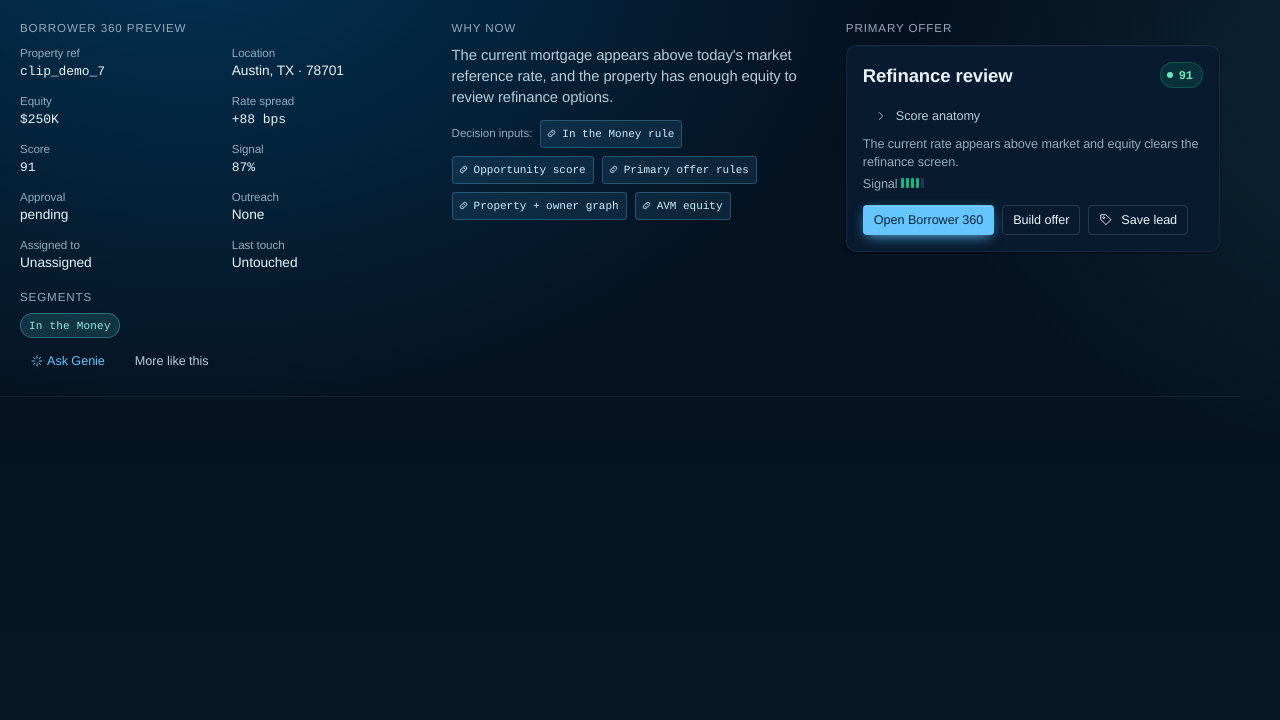
Test case: RowPreview More like this › opens the panel on a click with one count read, links only, and closes on a second click
Click the button "More like this": (172, 360) [124,346,220,376]
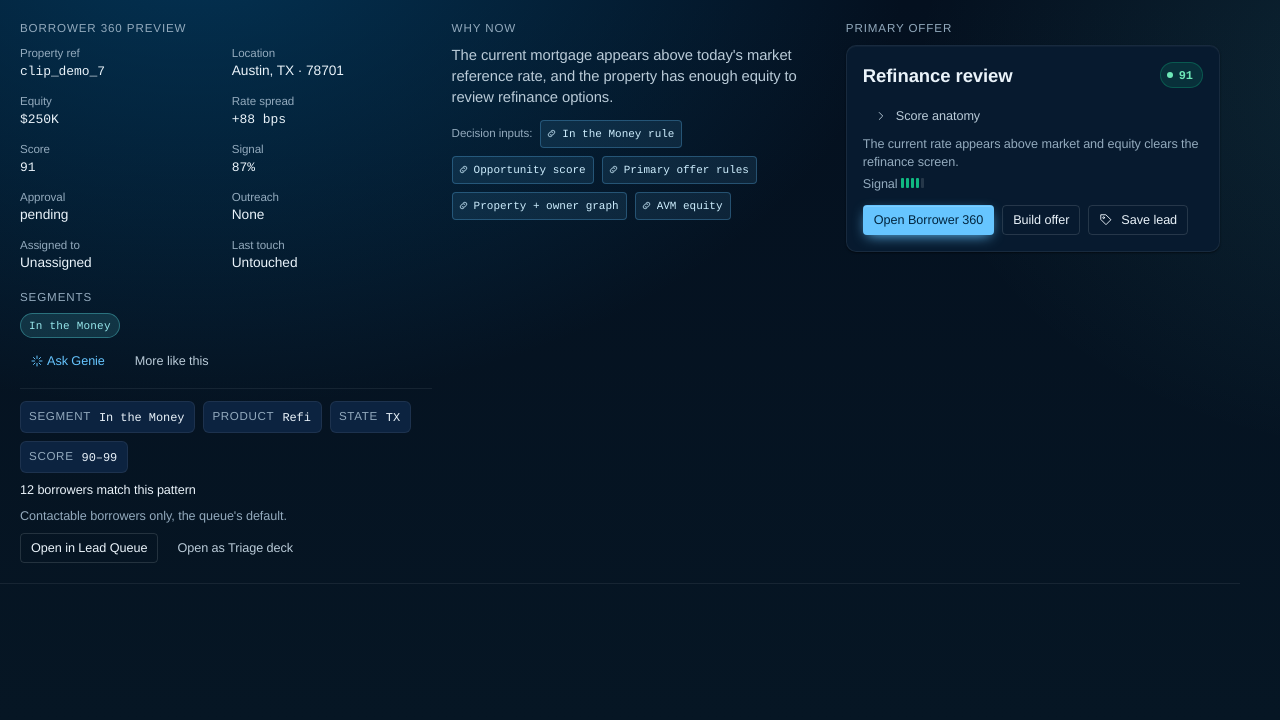
Expected: the element with class "similar-cohort" is shown, [20,388,432,562]
Expected: the message "12 borrowers match this pattern" is shown, [20,482,196,498]
Expected: the link with test id "lead-similar-open-triage" is shown, [177,540,293,556]
Click the button "More like this": (172, 360) [124,346,220,376]
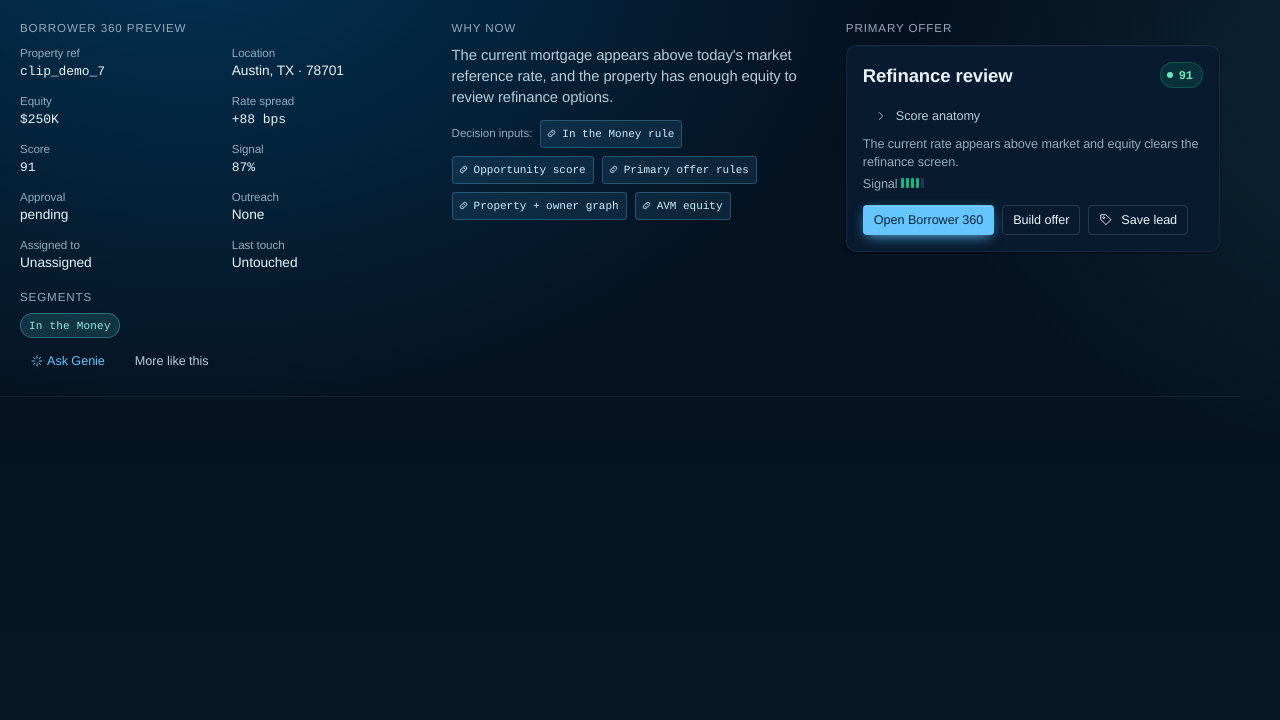
Expected: the element with class "similar-cohort" is gone
